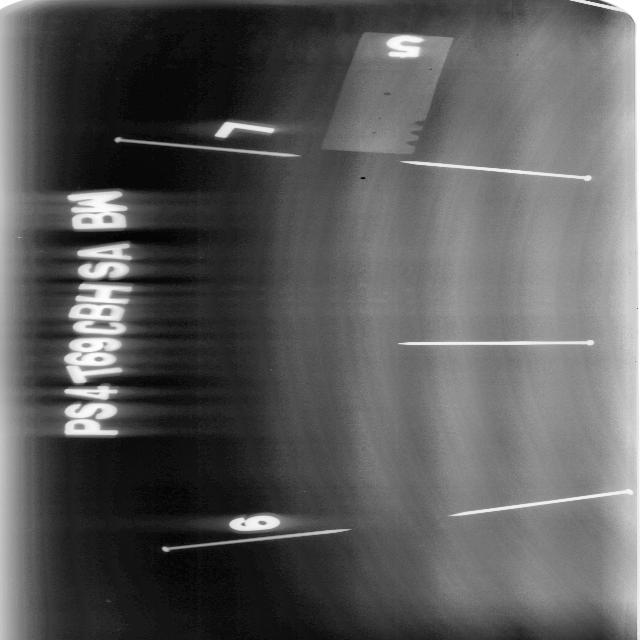porosity: (380, 91, 394, 97), (358, 177, 372, 181), (369, 130, 379, 134), (377, 117, 379, 120)
